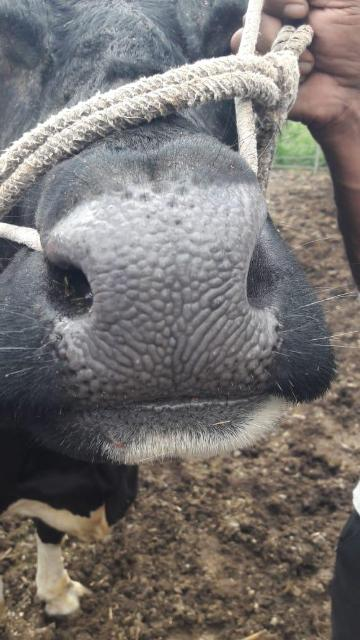Muzzle: (64, 230, 272, 388)
